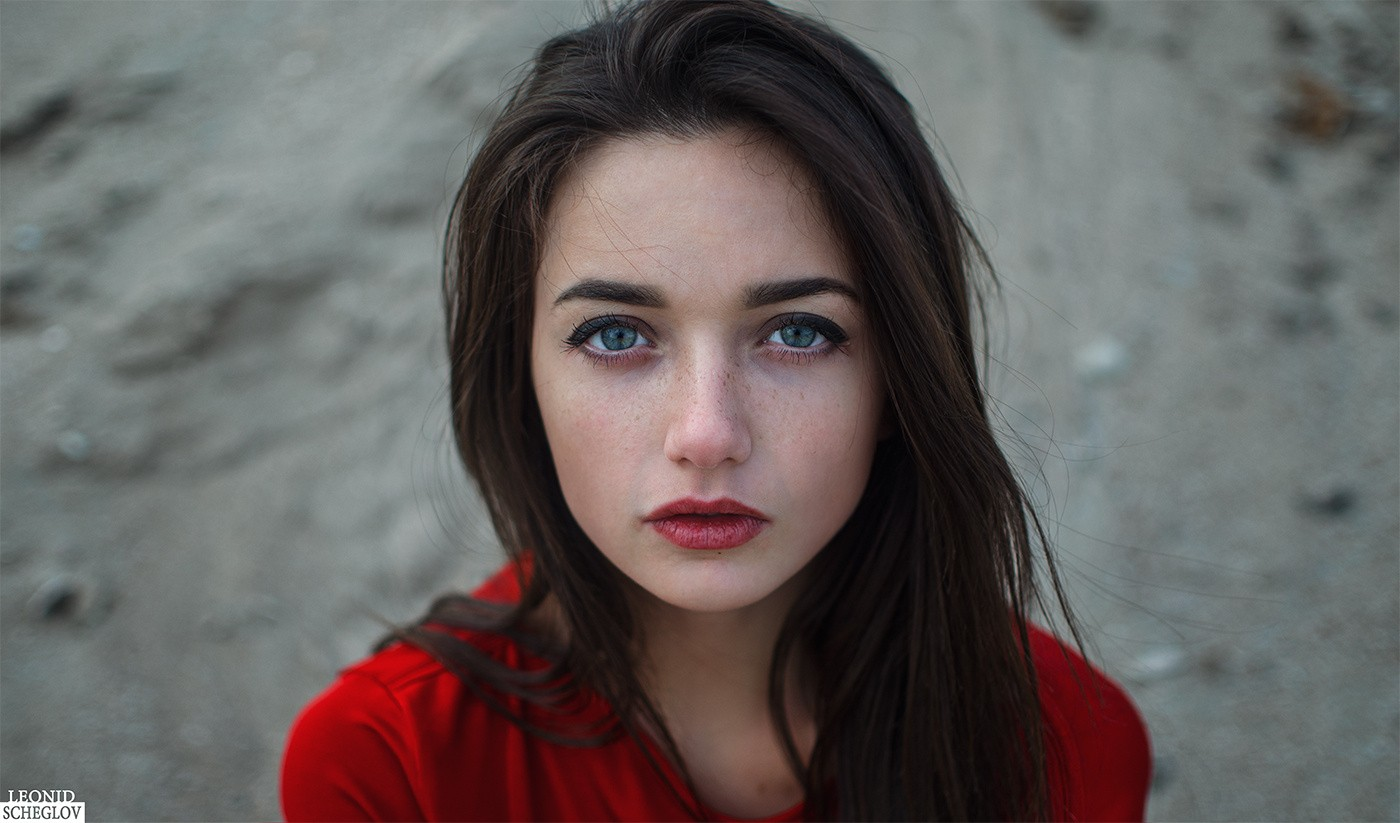without_mask: (540, 122, 881, 615)
